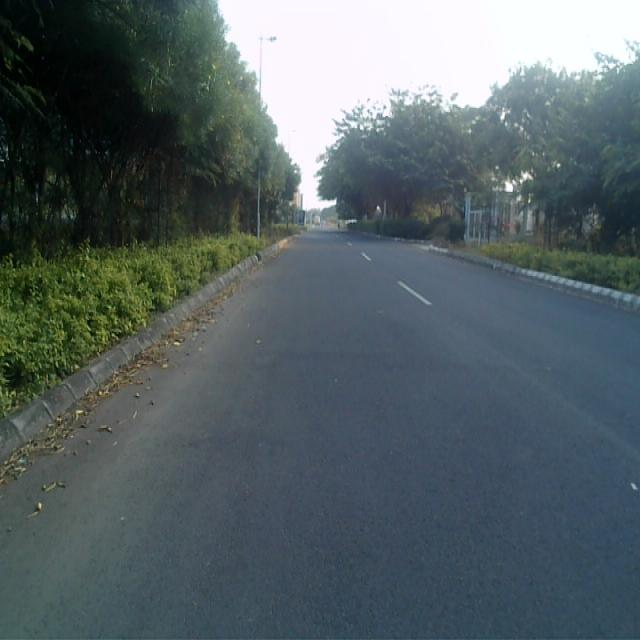lane: (0, 231, 640, 640)
